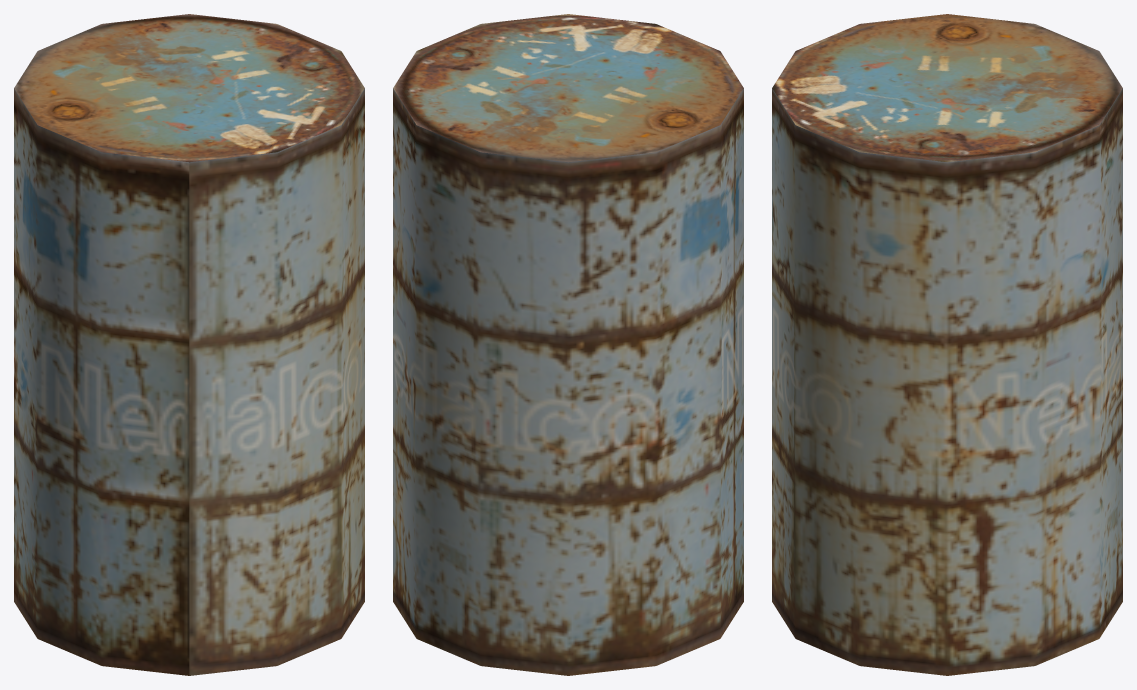
The model's file is tank.fbx.
3 views of the same model, side by side, from view 1: azimuth 30°, elevation 25°; view 2: azimuth 150°, elevation 25°; view 3: azimuth 270°, elevation 25° (orthographic).
Parts seen in each view (by area): view 1: tank; view 2: tank; view 3: tank.
Part boxes in pixels (x1,y1,x2,y2): tank: (14,14,364,675); tank: (393,14,743,675); tank: (772,14,1122,675).
Bounding box in the file's own units: 0.6917 × 1.12 × 0.6917.
